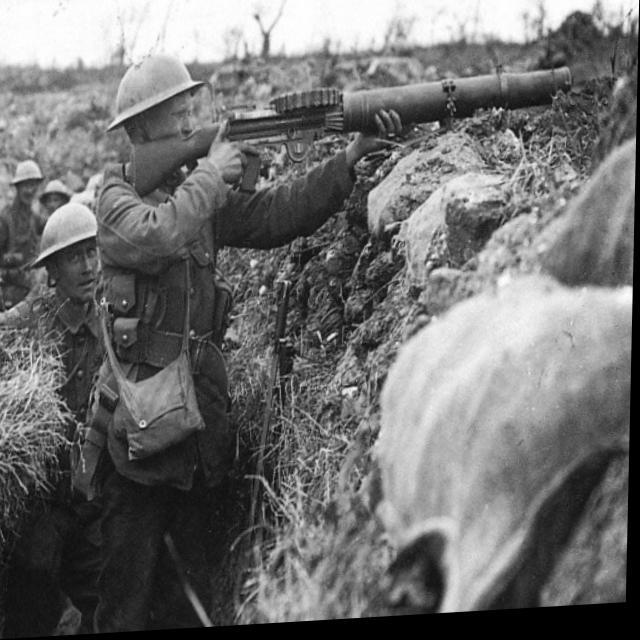other: (94, 52, 356, 635), (39, 198, 102, 381), (0, 157, 41, 289), (41, 176, 68, 216)
